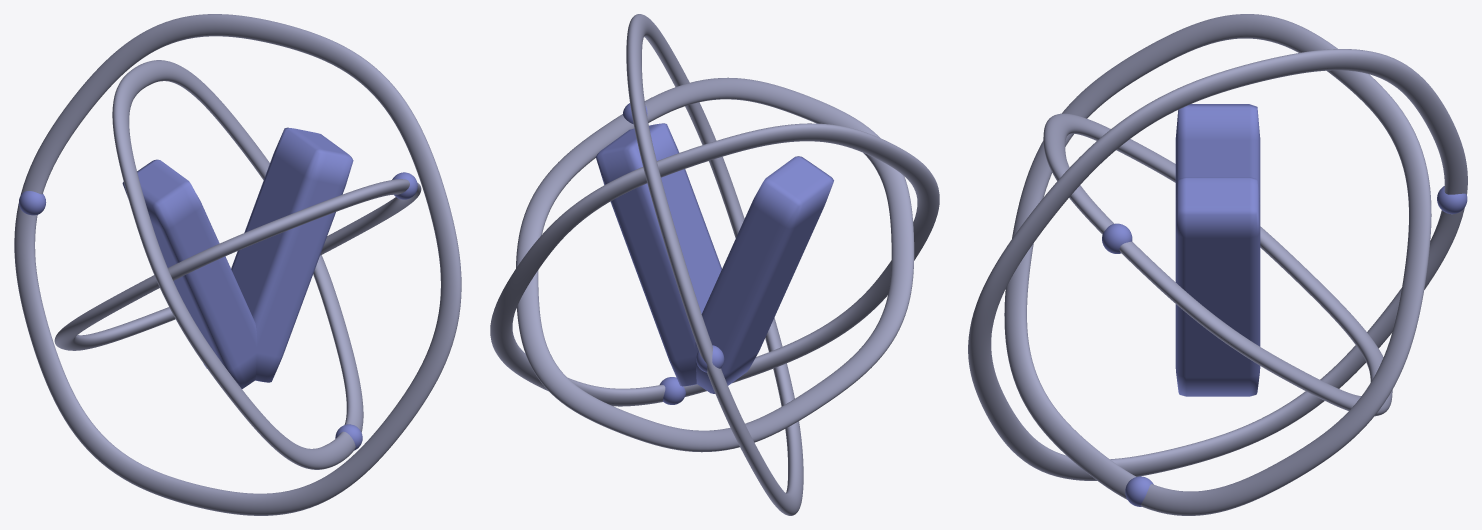
3 views of the same model, side by side, from view 1: azimuth 30°, elevation 25°; view 2: azimuth 150°, elevation 25°; view 3: azimuth 270°, elevation 25° (orthographic). The views are drawn at different scales.
Bounding box in the file's own units: 0.9618 × 1.11 × 1.06.
